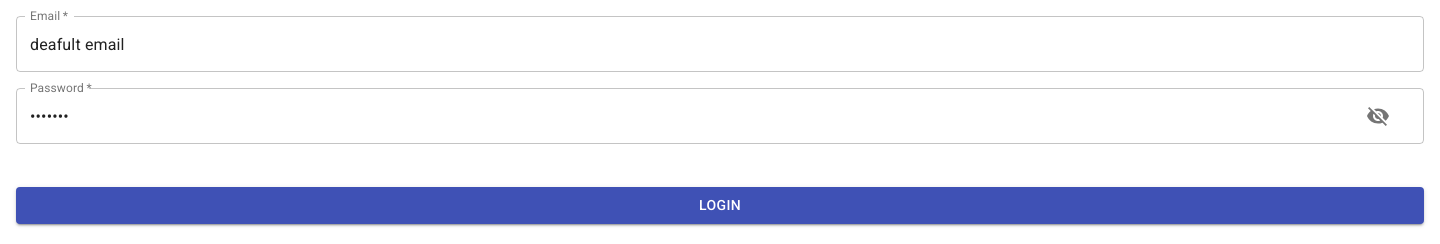
Test: Login  Form › Submit Button should be disabled if email field is empty
The width and height of the screenshot is (1440, 244).
Clear the field showing "deafult email" at (720,44), box [16,16,1424,72]
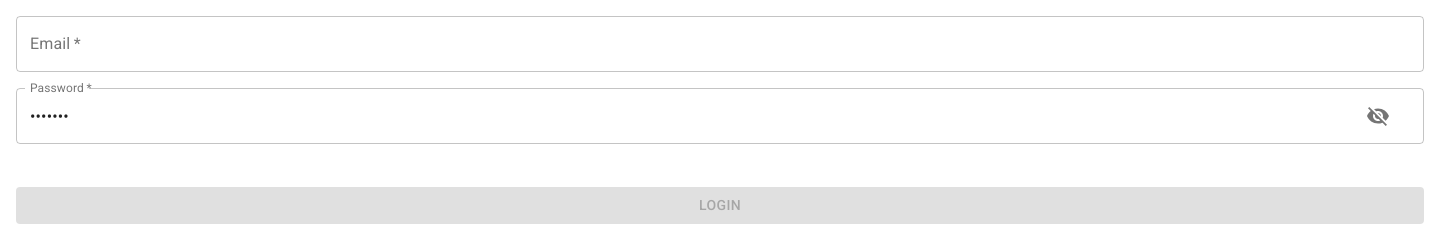
expect the button with test id "submit" is disabled: met, box [16,187,1424,224]
